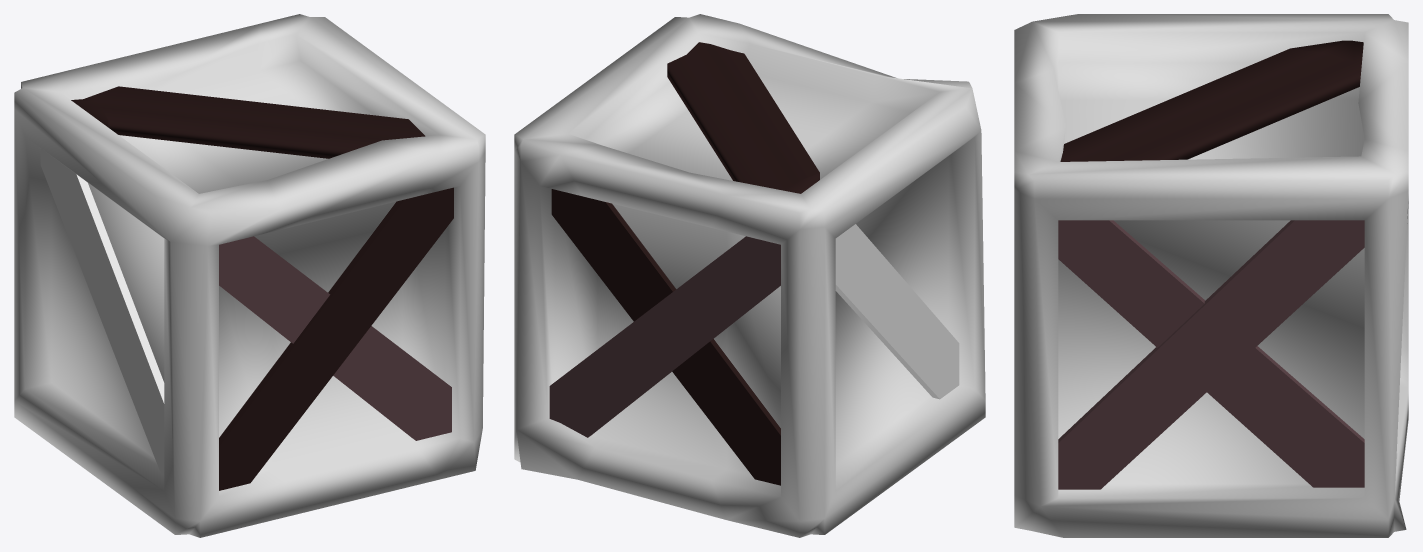
File: kutija_1.fbx
3 renders of one model, left to right at view 1: azimuth 30°, elevation 25°; view 2: azimuth 150°, elevation 25°; view 3: azimuth 270°, elevation 25°, orthographic. The views are drawn at different scales.
Parts seen in each view (by area): view 1: Plane.008; view 2: Plane.008; view 3: Plane.008.
Boxes of the visible parts, x1,y1,x2,y2 form: Plane.008: (14,14,485,537); Plane.008: (514,14,985,537); Plane.008: (1014,14,1408,537).
Size of the model in its own units: 160 by 163 by 160.
